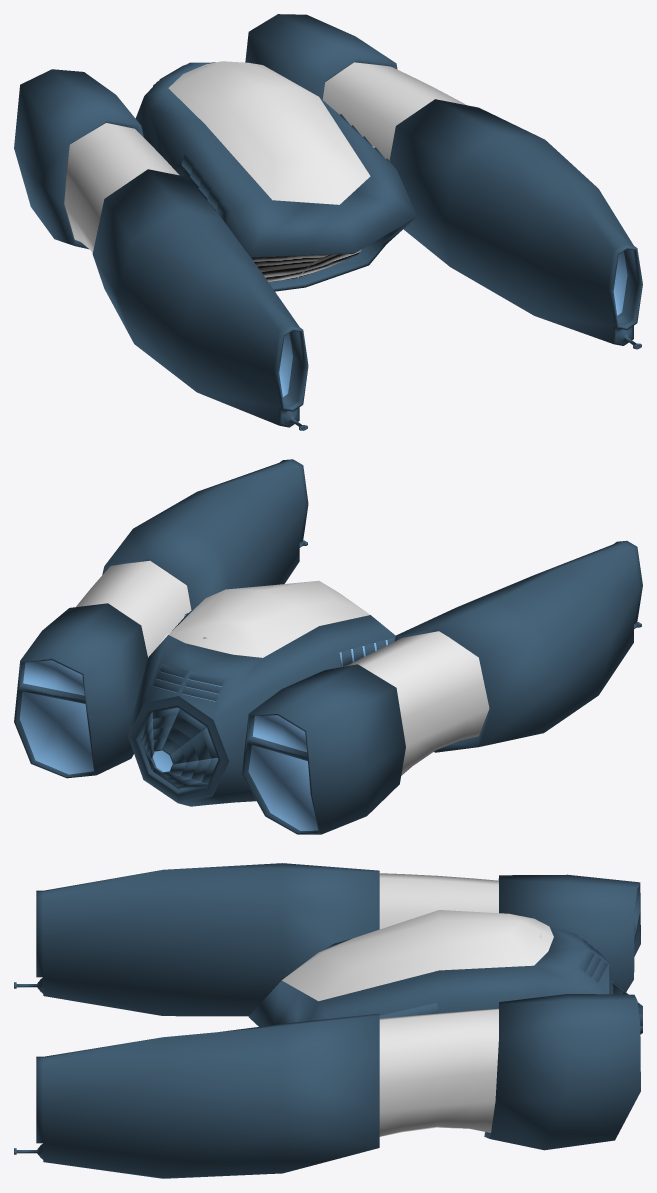
Rendered from Spaceship.fbx.
3 views of the same model, one above another, from view 1: azimuth 30°, elevation 25°; view 2: azimuth 150°, elevation 25°; view 3: azimuth 270°, elevation 25° (orthographic).
Parts seen in each view (by area): view 1: Engine_front_R.001, Engine_front_R, Cockpit, Window, Engine_back_R, Engine_middle_R, Engine_back_R.001, Engine_middle_R.001; view 2: Engine_front_R, Engine_back_R, Engine_back_R.001, Engine_front_R.001, Cockpit, Engine_middle_R, Window, Cockpit_engine, Engine_middle_R.001; view 3: Engine_front_R.001, Engine_front_R, Engine_back_R.001, Engine_middle_R.001, Window, Cockpit, Engine_back_R, Engine_middle_R.
Part boxes in pixels (x1,y1,x2,y2): Engine_front_R.001: [389, 99, 642, 349]; Engine_front_R: [92, 169, 308, 430]; Cockpit: [135, 62, 417, 291]; Window: [168, 61, 370, 204]; Engine_back_R: [14, 69, 143, 249]; Engine_middle_R: [64, 123, 178, 252]; Engine_back_R.001: [245, 14, 397, 99]; Engine_middle_R.001: [322, 62, 466, 160]; Engine_front_R: [394, 540, 642, 752]; Engine_back_R: [241, 664, 405, 834]; Engine_back_R.001: [14, 603, 147, 778]; Engine_front_R.001: [102, 459, 308, 610]; Cockpit: [128, 600, 395, 806]; Engine_middle_R: [346, 631, 489, 775]; Window: [168, 580, 369, 657]; Cockpit_engine: [128, 696, 229, 803]; Engine_middle_R.001: [76, 560, 191, 657]; Engine_front_R.001: [14, 1013, 379, 1178]; Engine_front_R: [14, 863, 379, 1016]; Engine_back_R.001: [484, 994, 640, 1150]; Engine_middle_R.001: [379, 1008, 498, 1136]; Window: [282, 910, 553, 1001]; Cockpit: [248, 919, 609, 1026]; Engine_back_R: [498, 874, 640, 991]; Engine_middle_R: [379, 873, 498, 929].
Bounding box in the file's own units: 341 × 135 × 410.
